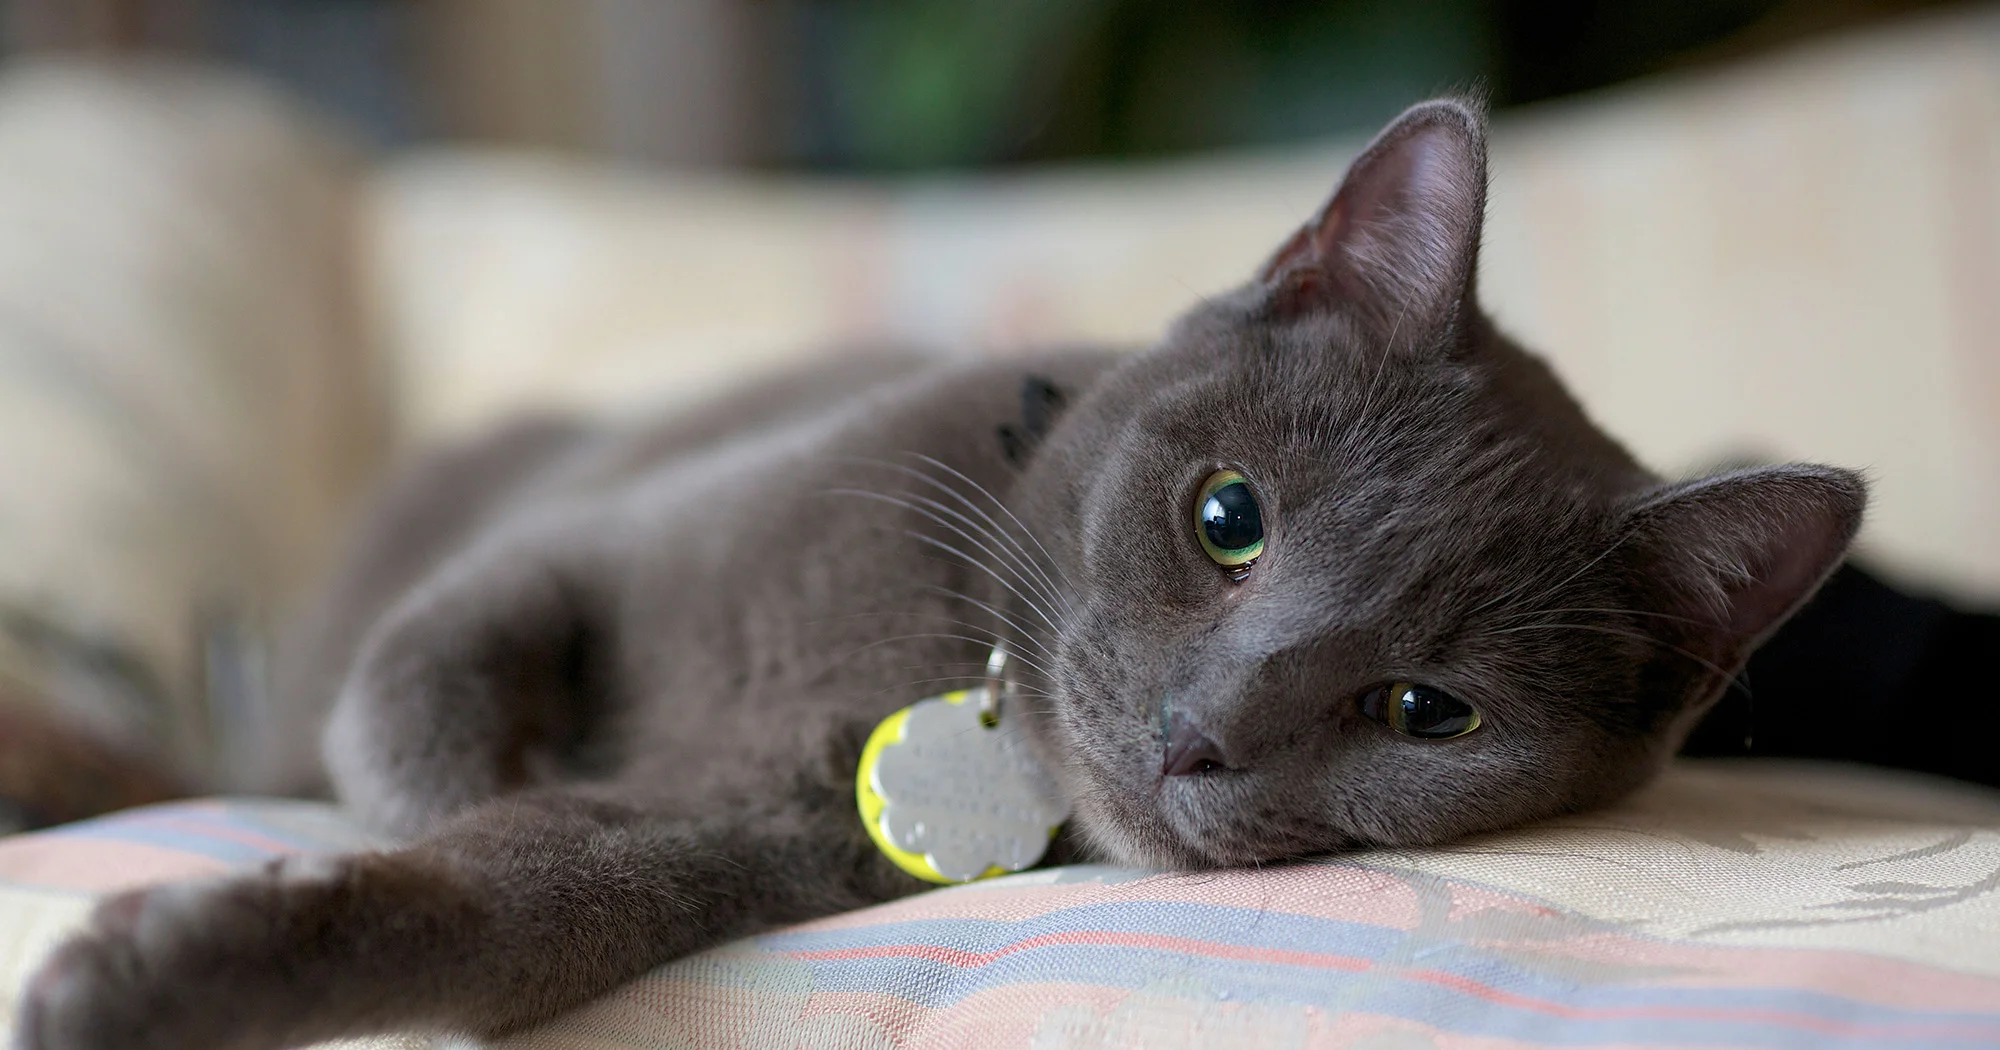cat: (52, 98, 1862, 1050)
